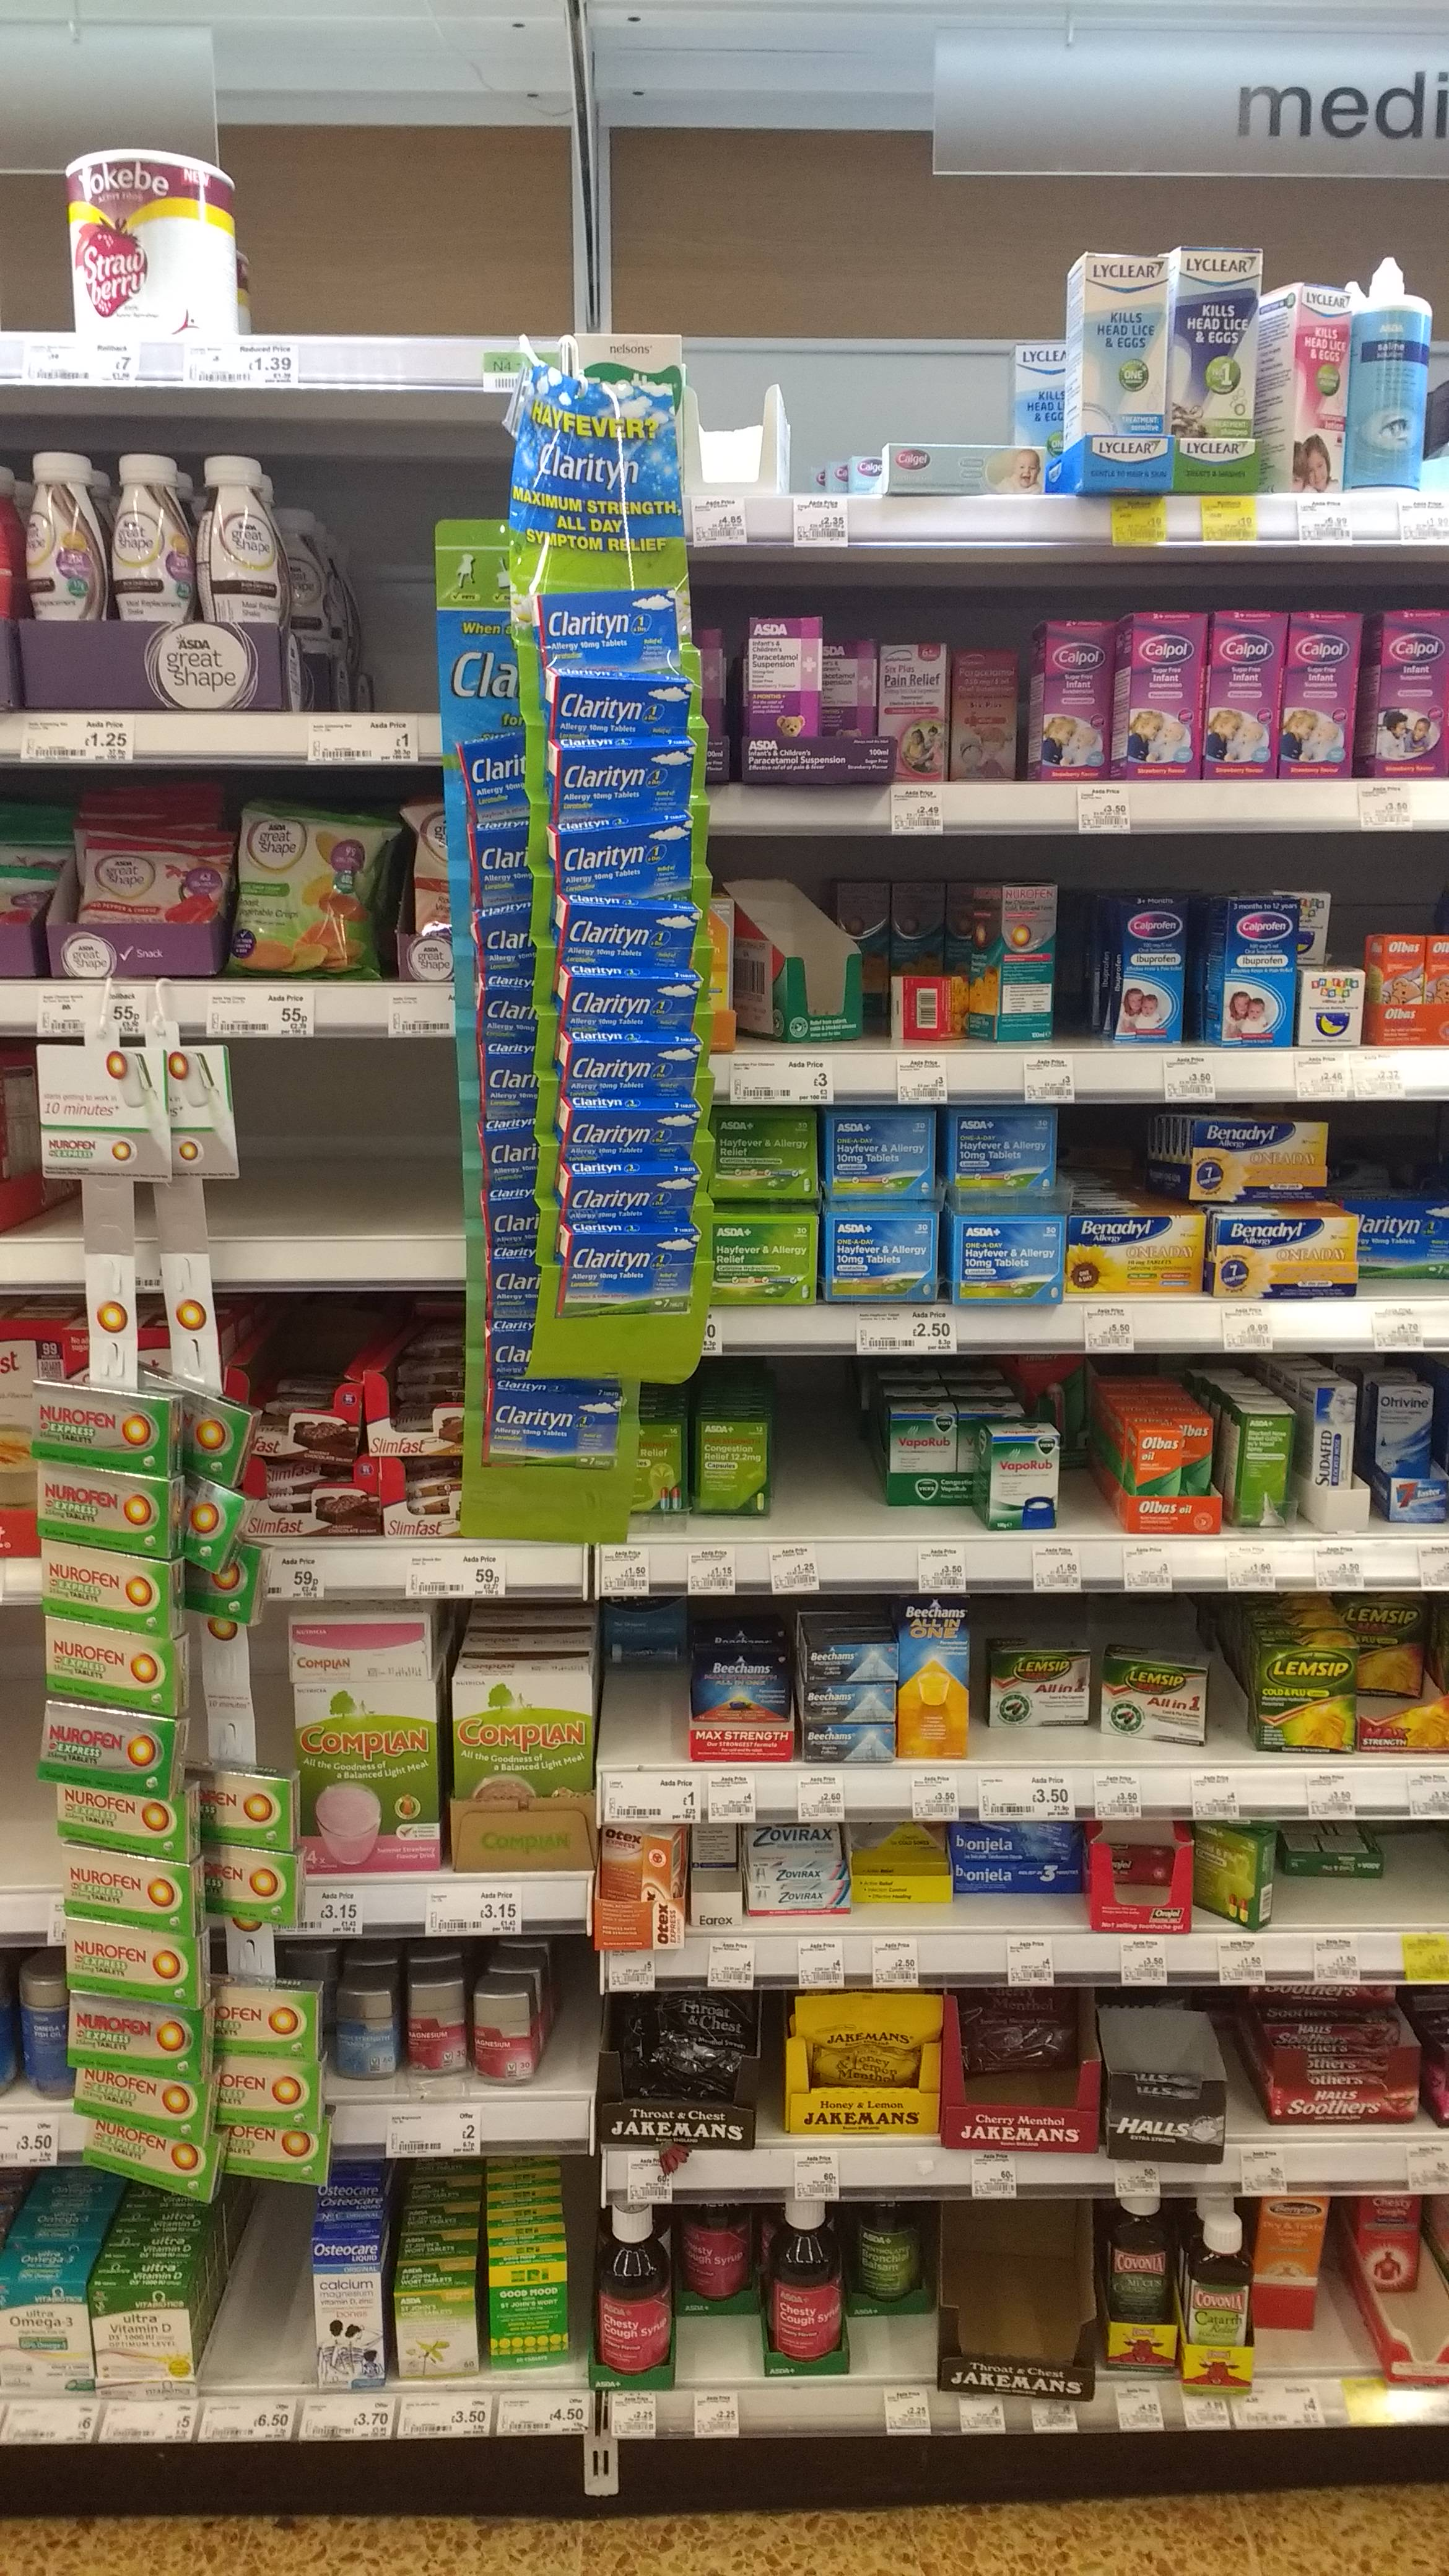Misplacement: (948, 635, 1031, 780)
Out-of-stock: (777, 1380, 886, 1529)
